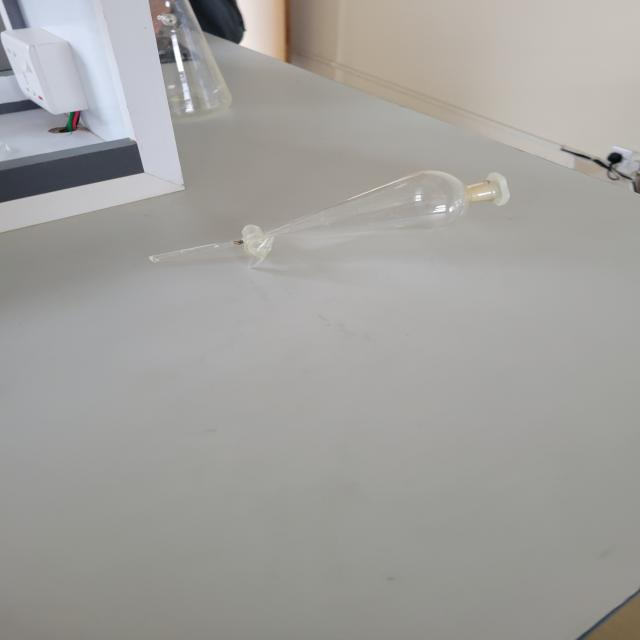Separating_Funnel: (117, 158, 543, 298)
